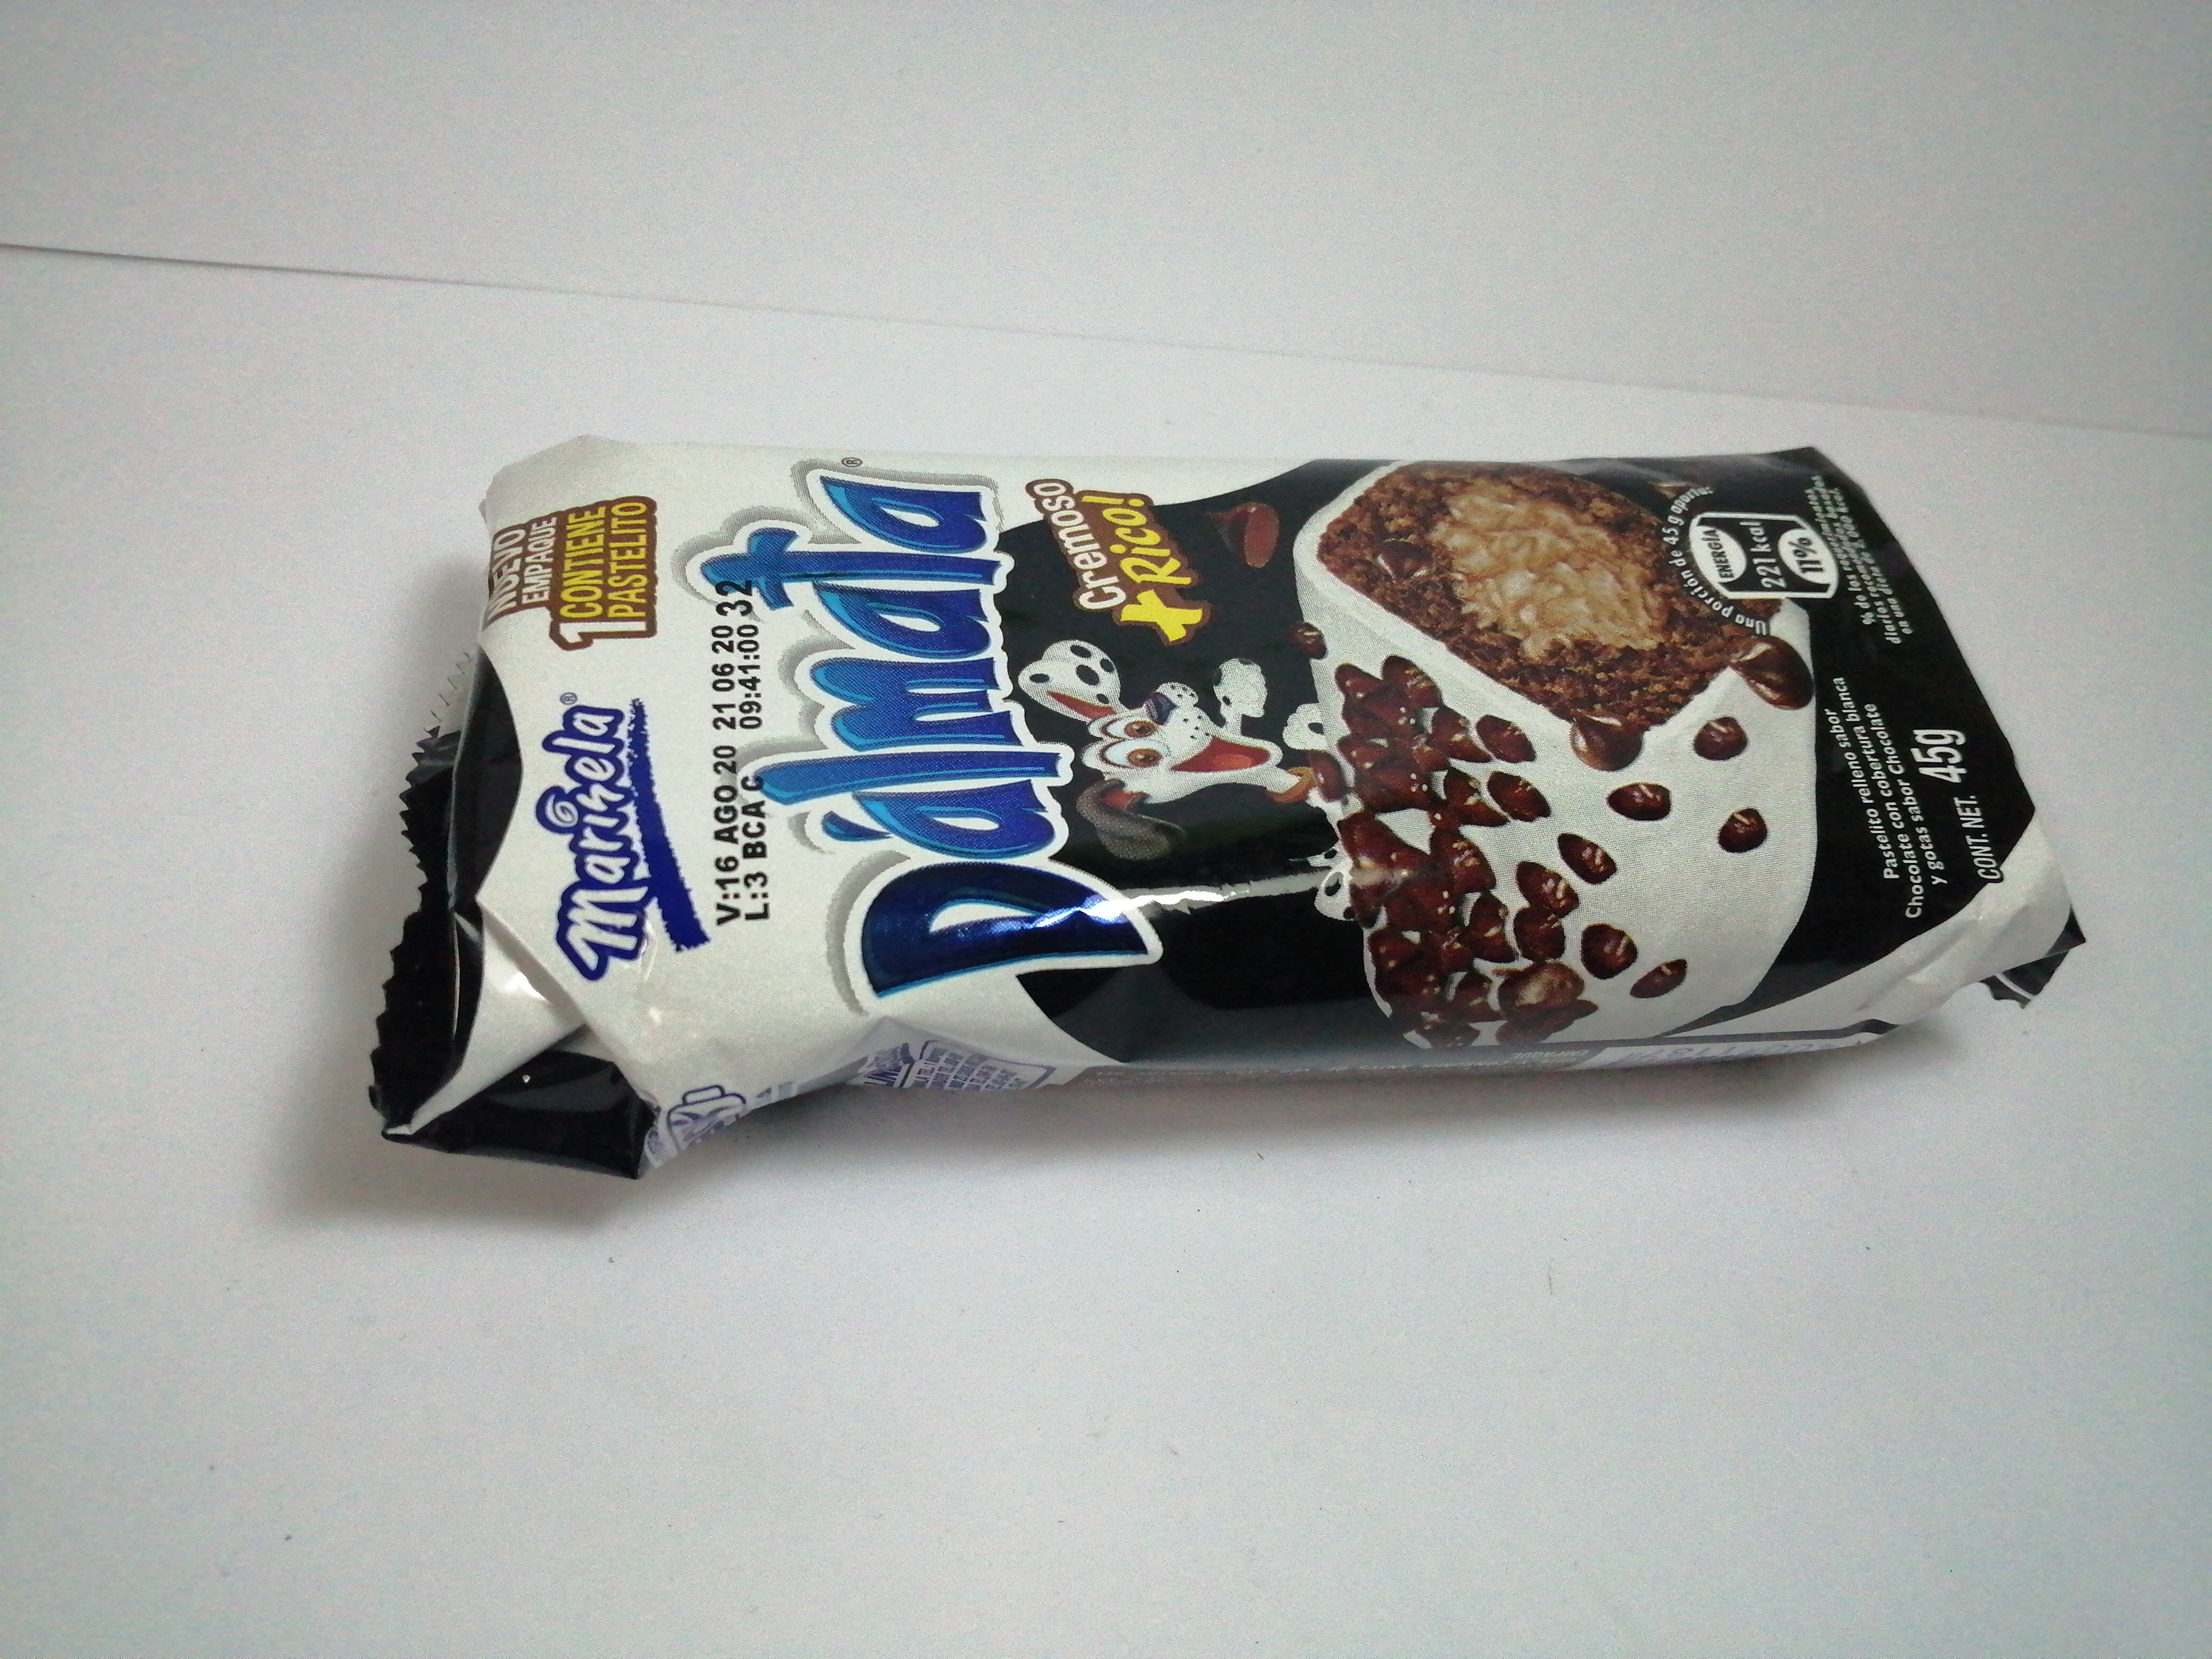dalmata: (355, 406, 2057, 1213)
